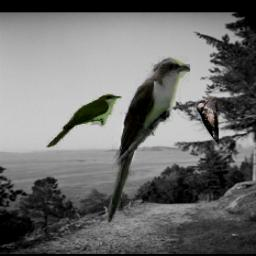Cuckoo: (104, 58, 191, 227), (47, 94, 123, 148)
Woodpecker: (197, 97, 220, 149)
